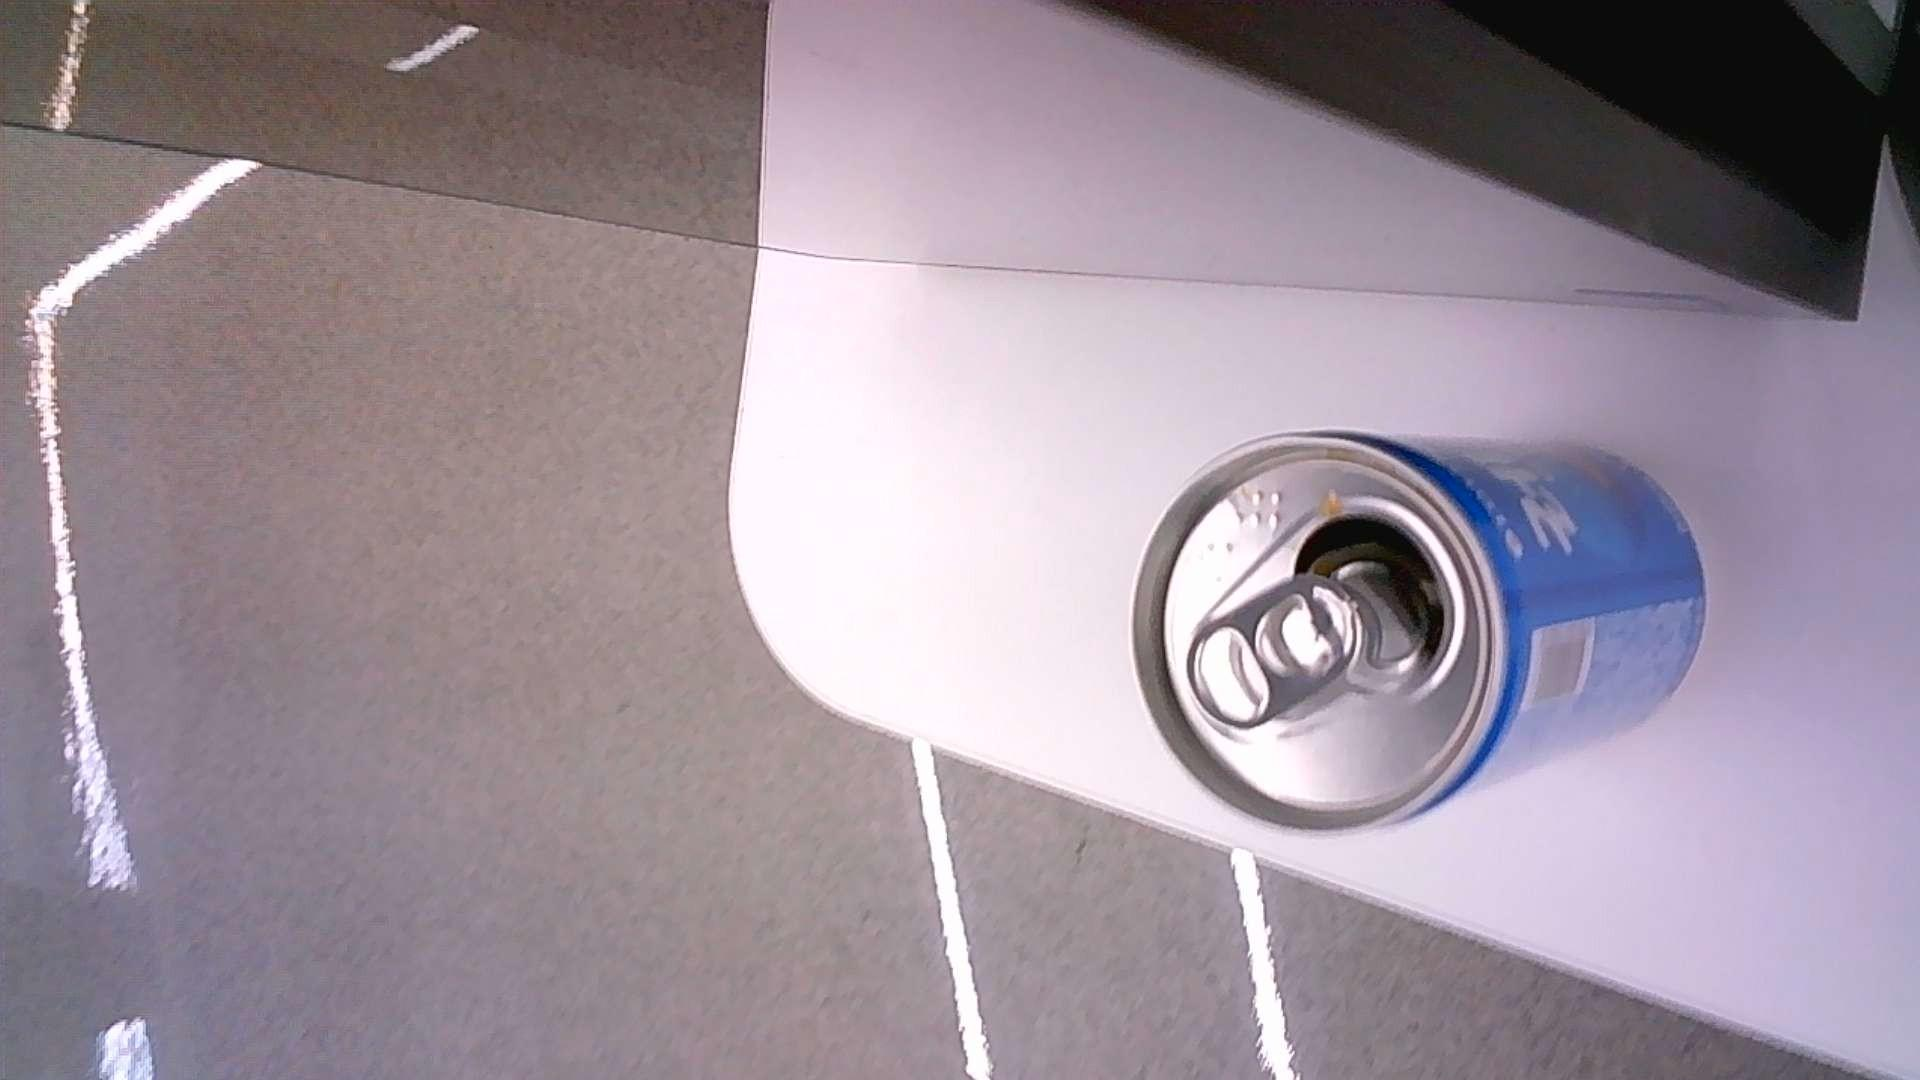letsbe: (1127, 427, 1709, 837)
